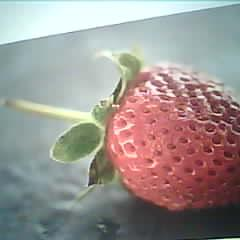straw-ripe: (109, 62, 240, 210)
